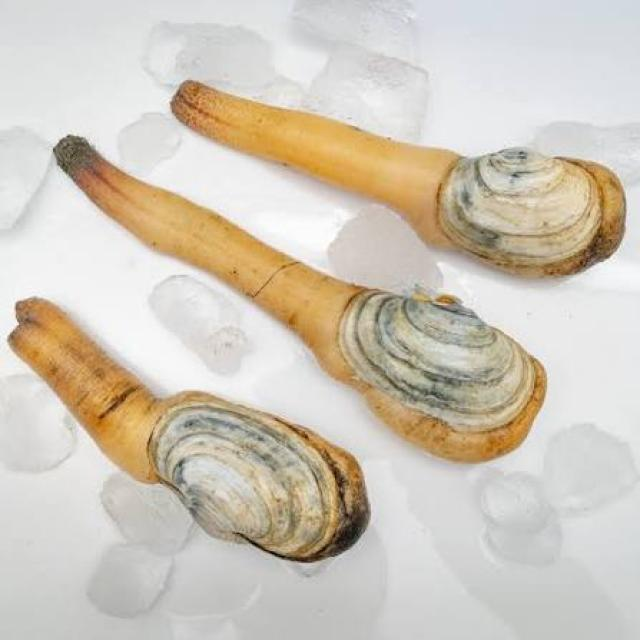korean_geoduck_clam: (25, 111, 580, 490), (3, 280, 415, 586), (151, 53, 633, 304)
